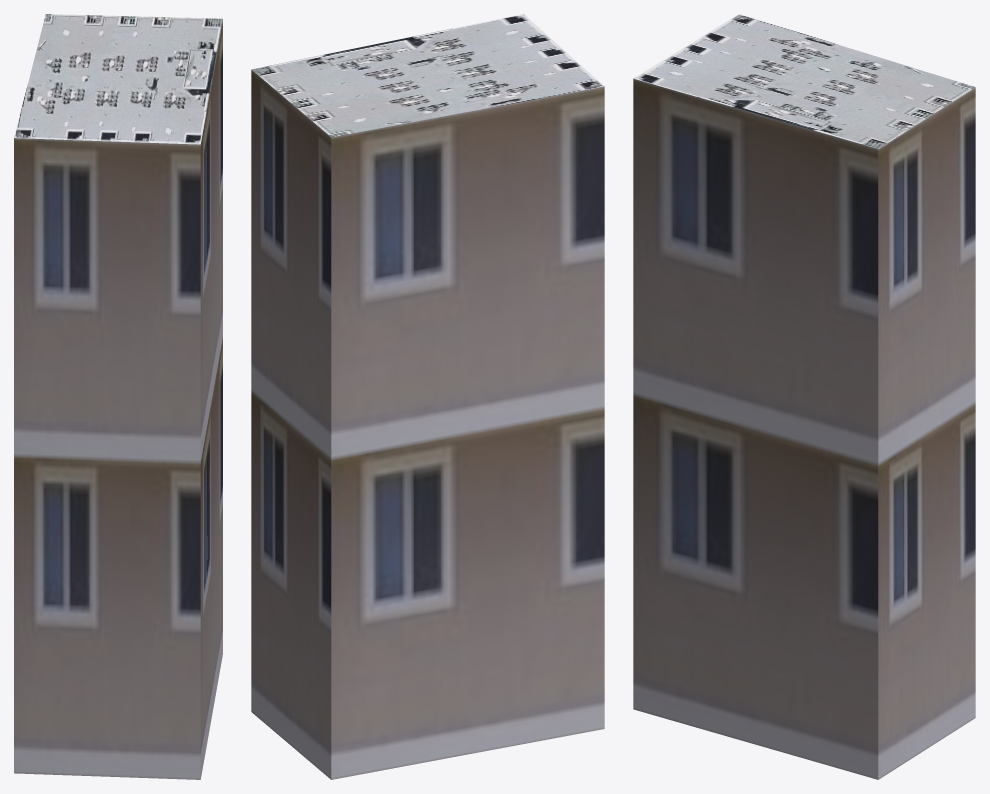
Rendered from ResTex__3957.fbx.
3 renders of one model, left to right at view 1: azimuth 30°, elevation 25°; view 2: azimuth 150°, elevation 25°; view 3: azimuth 270°, elevation 25°, orthographic.
Visible parts, largest first — view 1: CityEngineMaterial_21_m, CityEngineMaterial_4_m; view 2: CityEngineMaterial_21_m, CityEngineMaterial_4_m; view 3: CityEngineMaterial_21_m, CityEngineMaterial_4_m.
Boxes of the visible parts, box(x1,y1,x2,y2) form: CityEngineMaterial_21_m: box(14, 20, 222, 779); CityEngineMaterial_4_m: box(14, 14, 222, 144); CityEngineMaterial_21_m: box(251, 69, 604, 779); CityEngineMaterial_4_m: box(251, 14, 603, 137); CityEngineMaterial_21_m: box(633, 78, 975, 779); CityEngineMaterial_4_m: box(633, 14, 975, 148).
Size of the model in its own units: 2.76 by 6 by 2.95.
2 materials, 2 textured.
